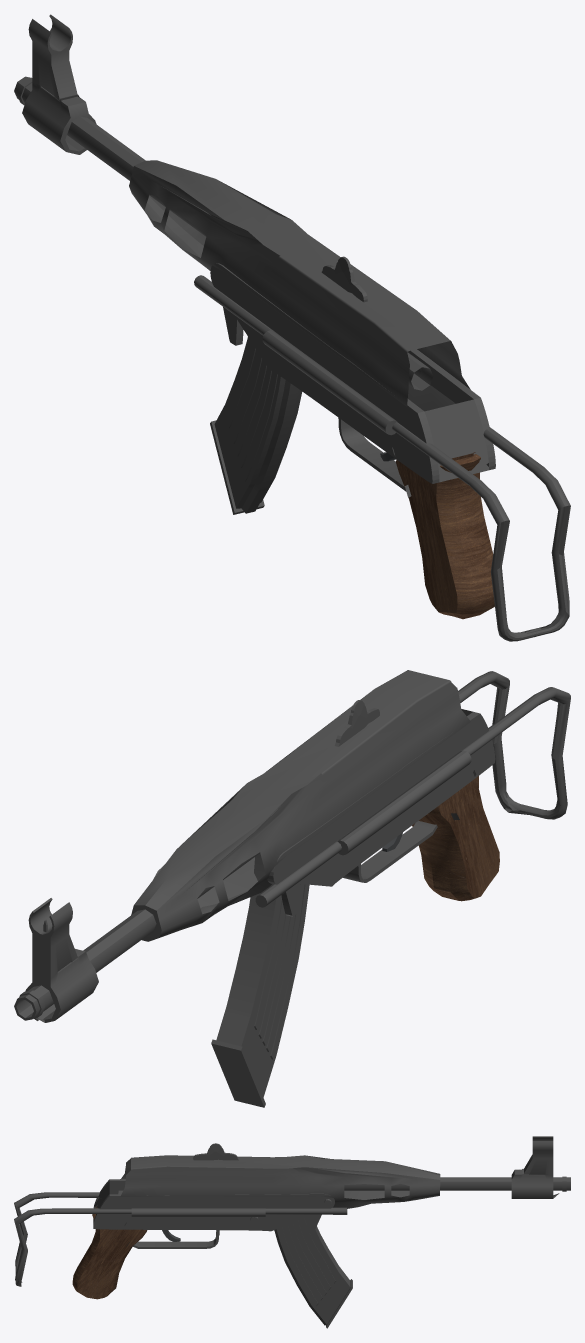
The picture shows the model from 3 angles, top to bottom: view 1: azimuth 30°, elevation 25°; view 2: azimuth 150°, elevation 25°; view 3: azimuth 270°, elevation 25°; orthographic projection. The views are drawn at different scales.
Parts seen in each view (by area): view 1: Sungtieulien; view 2: Sungtieulien; view 3: Sungtieulien.
Boxes of the visible parts, x1,y1,x2,y2 form: Sungtieulien: [14, 14, 570, 641]; Sungtieulien: [14, 670, 570, 1107]; Sungtieulien: [14, 1136, 570, 1328].
Size of the model in its own units: 9.92 by 37.97 by 103.
